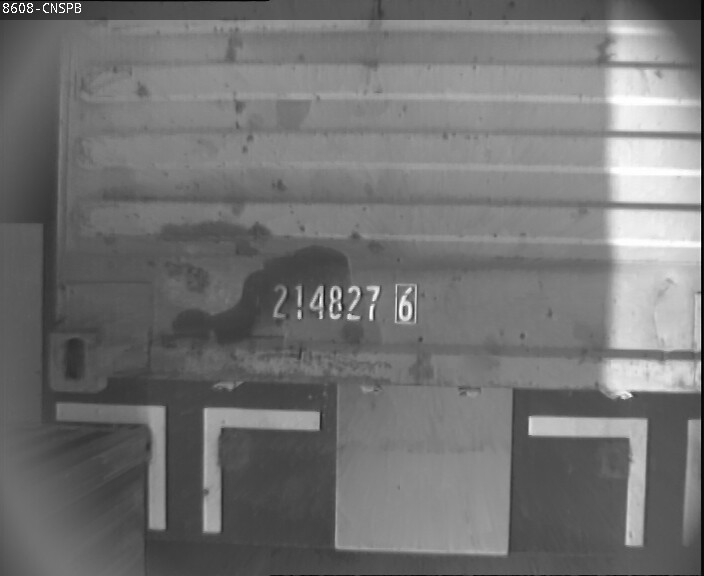groundmarker_1: (57, 401, 318, 531)
